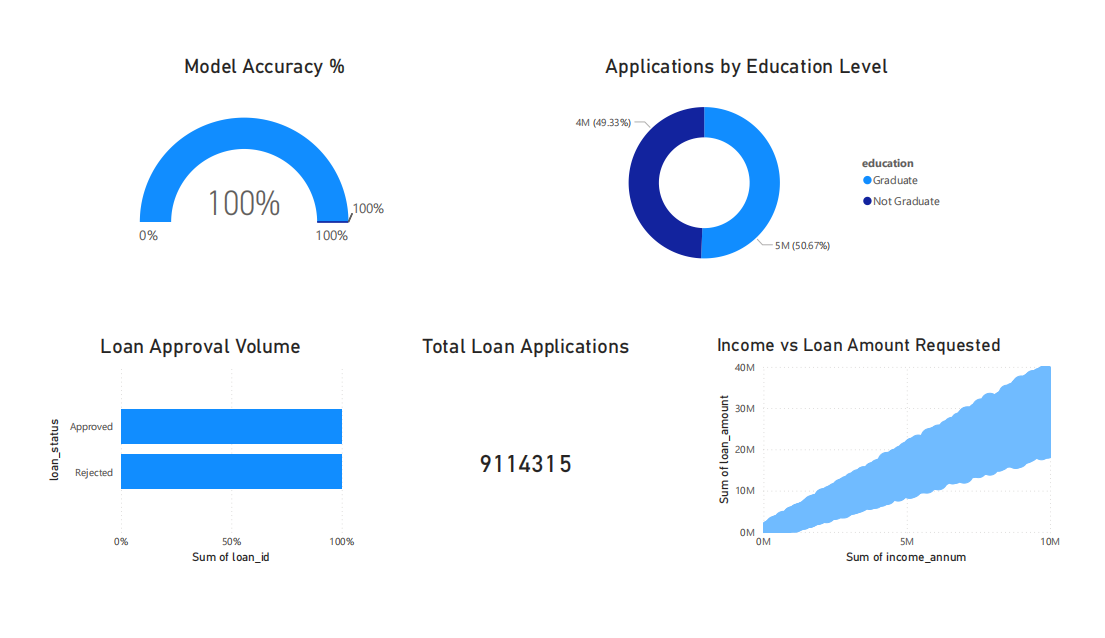

What the dashboard file says about the page in this screenshot:
{"tool":"powerbi","page":{"name":"Page 1","canvas":[1280,720],"ordinal":0},"visuals":[{"type":"gauge","fields":{"Y":["loan_data_for_powerbi_final.Model Accuracy %"]},"box":[141.3,43.6,308.7,280.8],"z":0},{"type":"card","title":"Total Loan Applications ","fields":{"Values":["Sum(loan_data_for_powerbi_final.loan_id)"]},"box":[468.3,379.2,281.8,279.7],"z":1000},{"type":"hundredPercentStackedBarChart","title":"Loan Approval Volume","fields":{"Category":["loan_data_for_powerbi_final.loan_status"],"Y":["Sum(loan_data_for_powerbi_final.loan_id)"]},"box":[31.1,379.2,377.1,279.7],"z":2000},{"type":"donutChart","title":"Applications  by Education Level","fields":{"Category":["loan_data_for_powerbi_final.education"],"Y":["Sum(loan_data_for_powerbi_final.loan_id)"]},"box":[627.8,43.6,491.8,280.8],"z":3000},{"type":"scatterChart","title":"Income vs Loan Amount Requested","fields":{"X":["Sum(loan_data_for_powerbi_final.income_annum)"],"Y":["Sum(loan_data_for_powerbi_final.loan_amount)"],"Size":["Sum(loan_data_for_powerbi_final.loan_id)"],"Category":["loan_data_for_powerbi_final.loan_id"]},"box":[832.9,379.2,420.6,279.7],"z":4000}]}

Visuals, with their boxes in screenshot pixels (x1, y1, x2, y2), scaled from the page's 1280x720 canvas onto the 1105x638 screenshot:
gauge - loan_data_for_powerbi_final.Model Accuracy %: box=[122, 39, 388, 287]
"Total Loan Applications " card: box=[404, 336, 648, 584]
"Loan Approval Volume" hundredPercentStackedBarChart: box=[27, 336, 352, 584]
"Applications  by Education Level" donutChart: box=[542, 39, 967, 287]
"Income vs Loan Amount Requested" scatterChart: box=[719, 336, 1082, 584]
